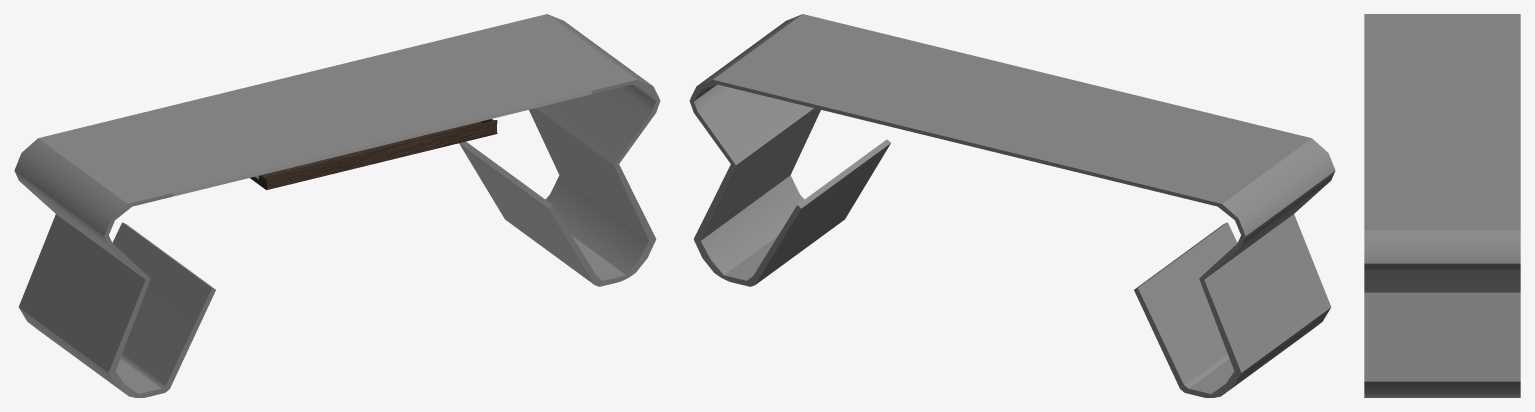
The model's file is object_desk_20220516.fbx.
3 renders of one model, left to right at view 1: azimuth 30°, elevation 25°; view 2: azimuth 150°, elevation 25°; view 3: azimuth 270°, elevation 25°, orthographic. The views are drawn at different scales.
Parts seen in each view (by area): view 1: object_desk, desk_drawer, desk_desklight; view 2: object_desk; view 3: object_desk.
Part boxes in pixels (x1,y1,x2,y2): object_desk: (14,14,660,397); desk_drawer: (250,119,497,190); desk_desklight: (173,91,591,196); object_desk: (689,14,1335,397); object_desk: (1364,14,1520,397).
Size of the model in its own units: 1.79 by 0.6079 by 0.5.
Materials: 4 (1 with a texture image).
